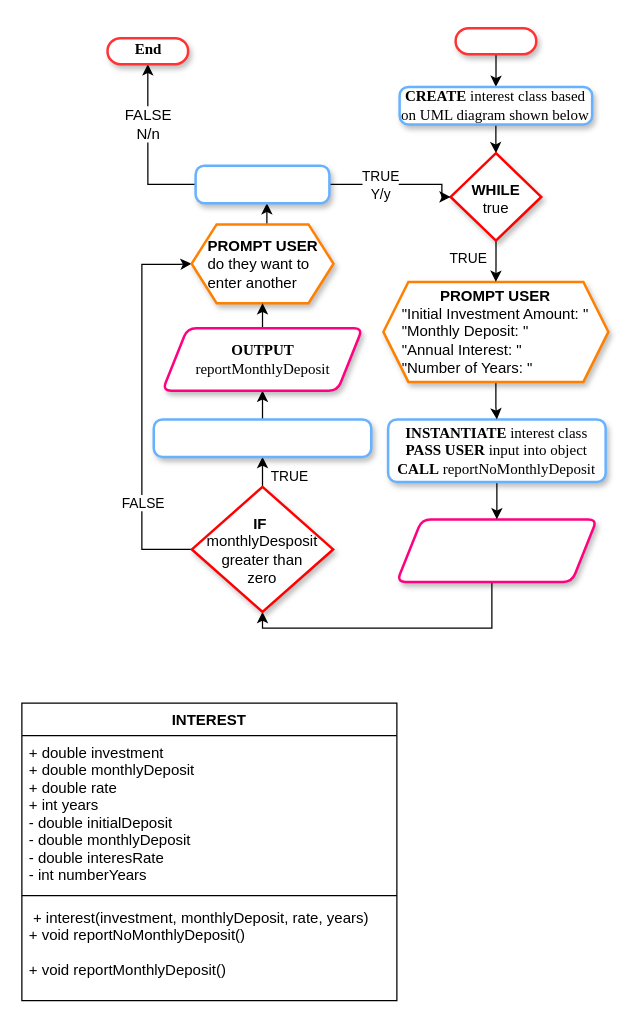
Image size: 639x1025. Some labels were removed from this diagram. Here are the shapes that lost their labels. From the top down, the centre of each, then its label:
(496,42): Start
(263,185): SET choice to user answer
(263,439): CALL reportMonthlyDeposit
(497,551): OUTPUT reportNoMonthlyDeposit
